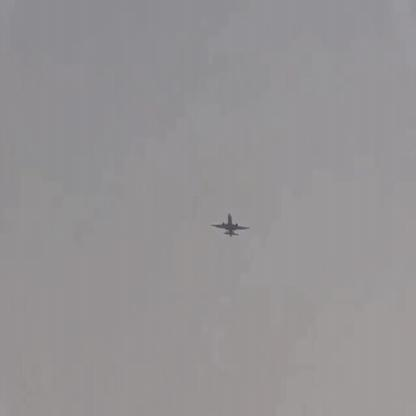CIV_Plane: (210, 214, 252, 236)
